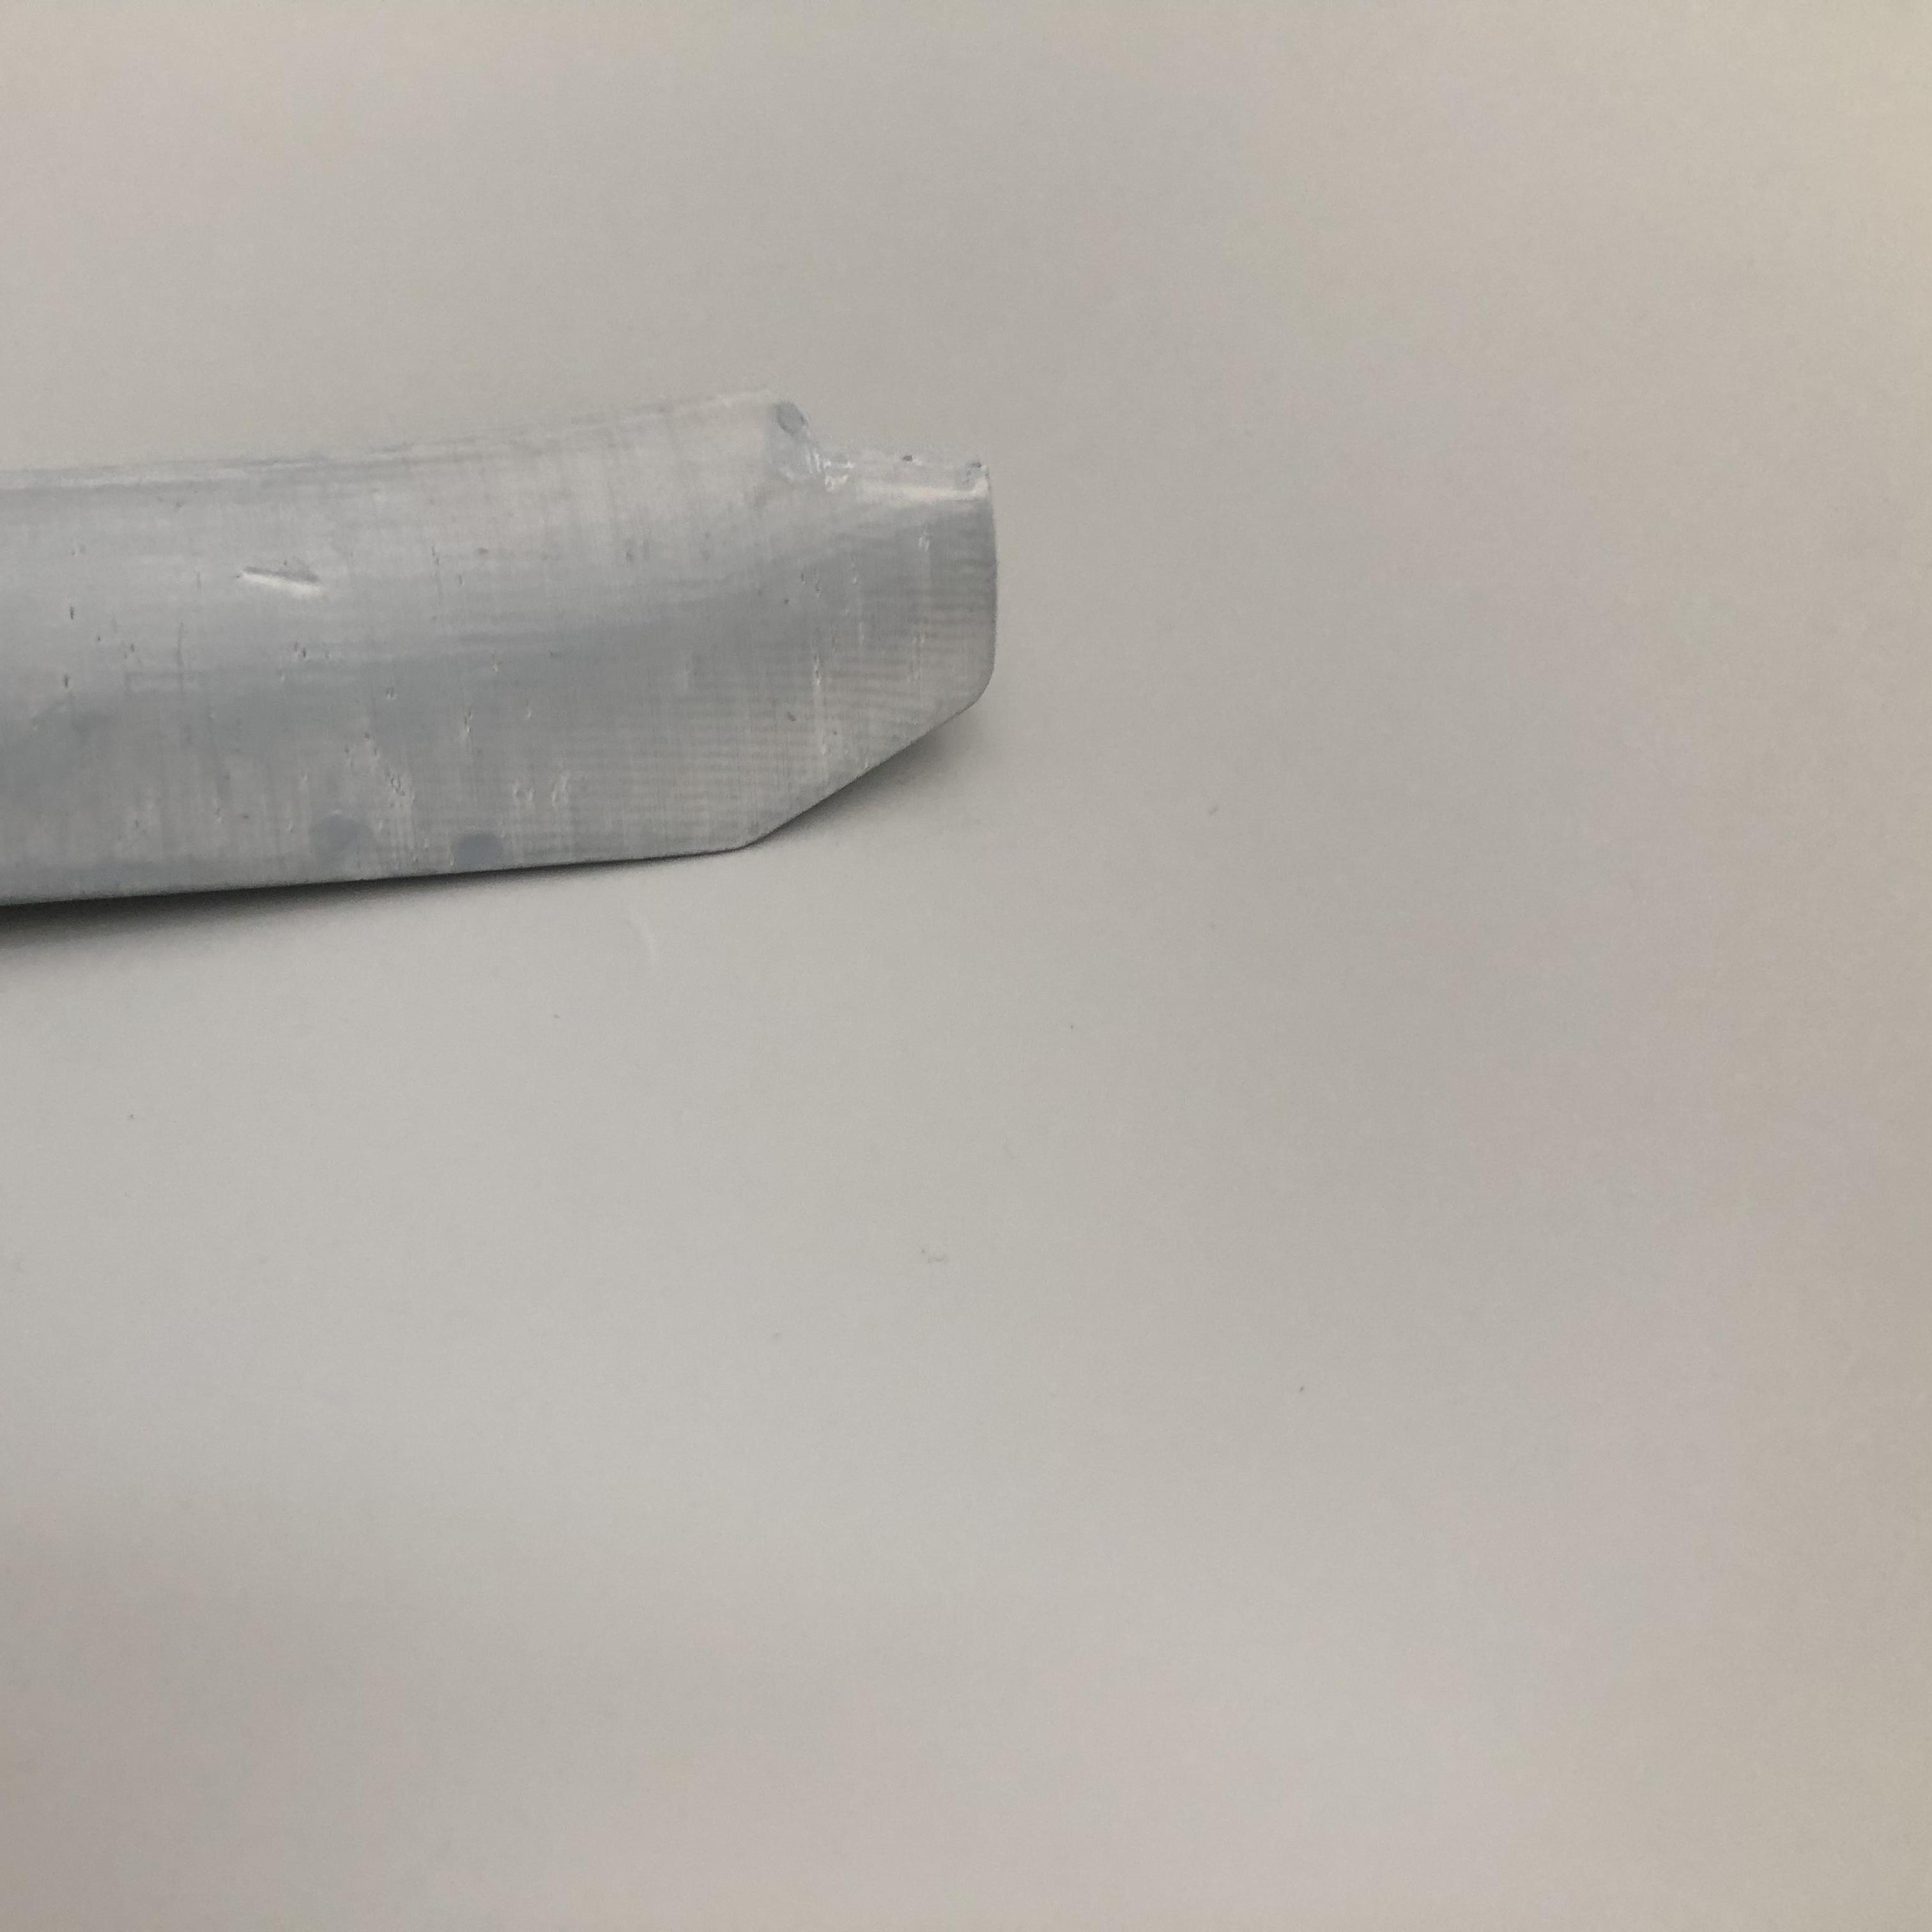fracture: (761, 386, 978, 506)
